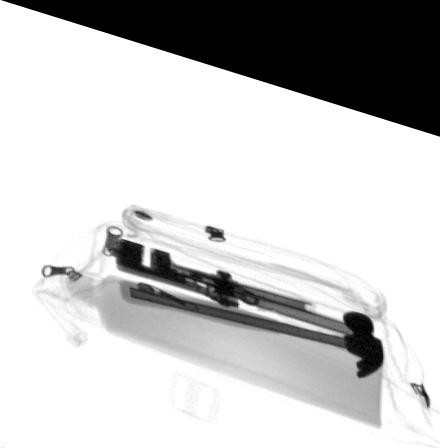Hammer: (119, 272, 385, 357)
Pliers: (115, 231, 359, 317)
